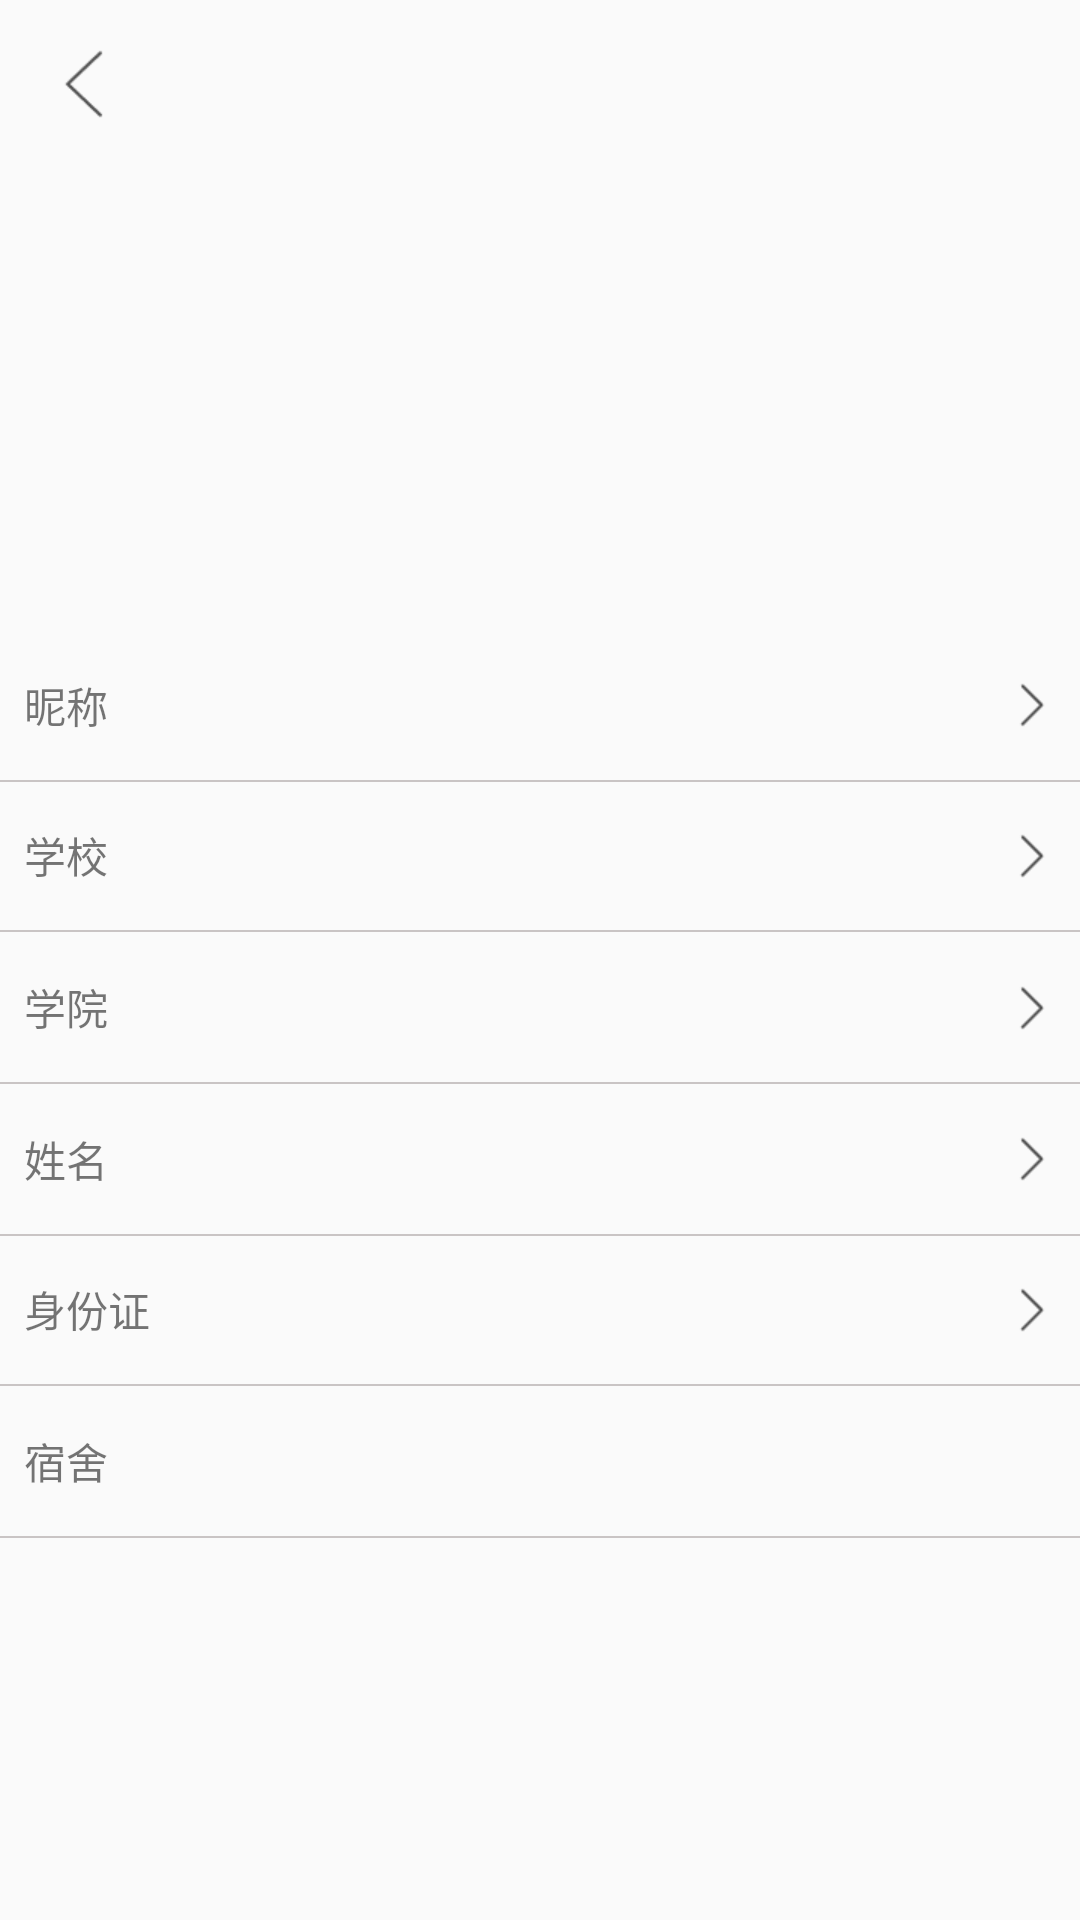

Where to tap for icons on this 1080 x 1920 app screen, as point (x, y):
next: point (1032, 705), point (1032, 856), point (1032, 1008), point (1032, 1159), point (1032, 1310)
